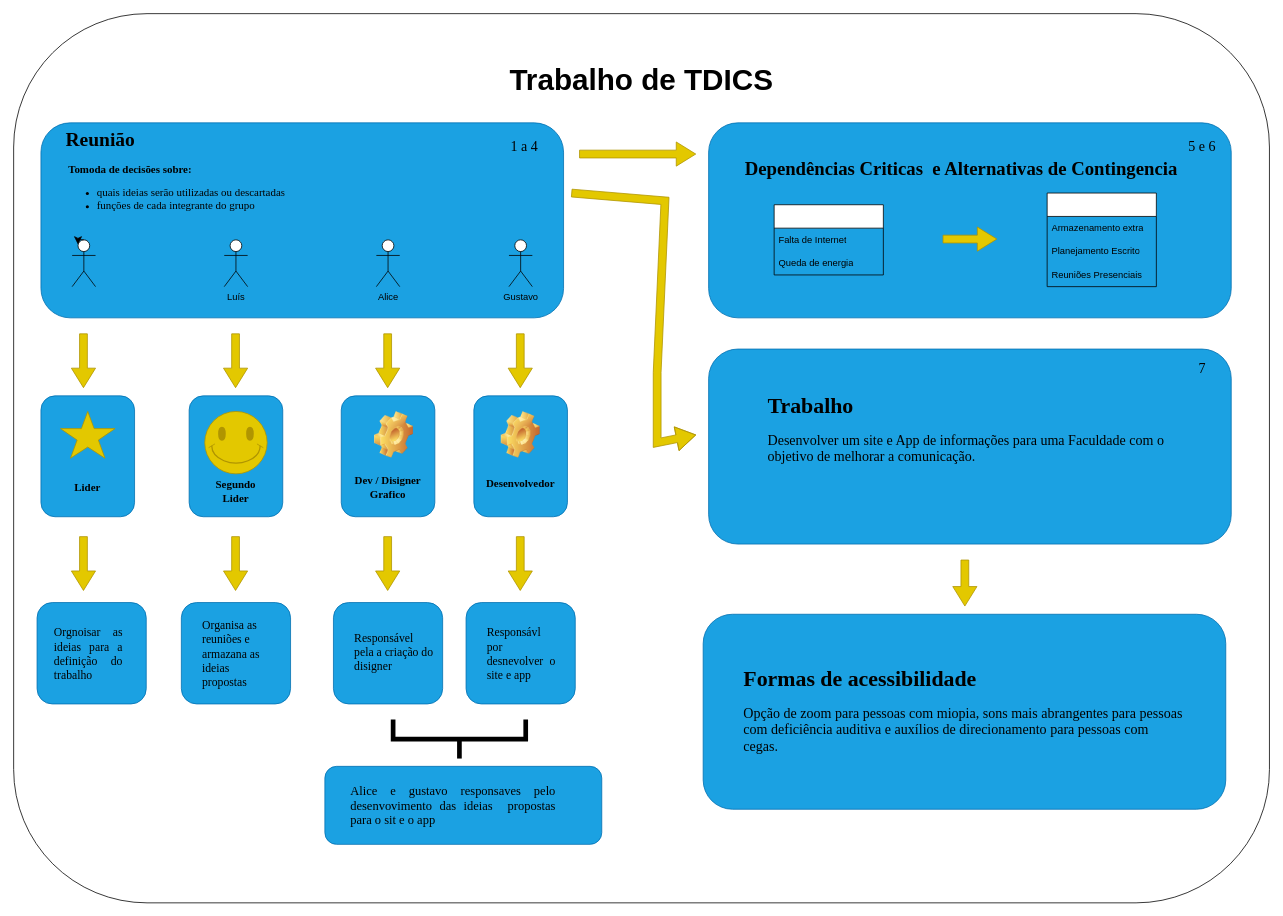
This 1283x916 diagram has some shape labels left out. Here are the shapes that lost their labels. From the top down, the box of each, then its label:
(773, 204, 883, 275): Dependências
(1046, 192, 1156, 287): Contingencias
(71, 239, 96, 287): Ana
